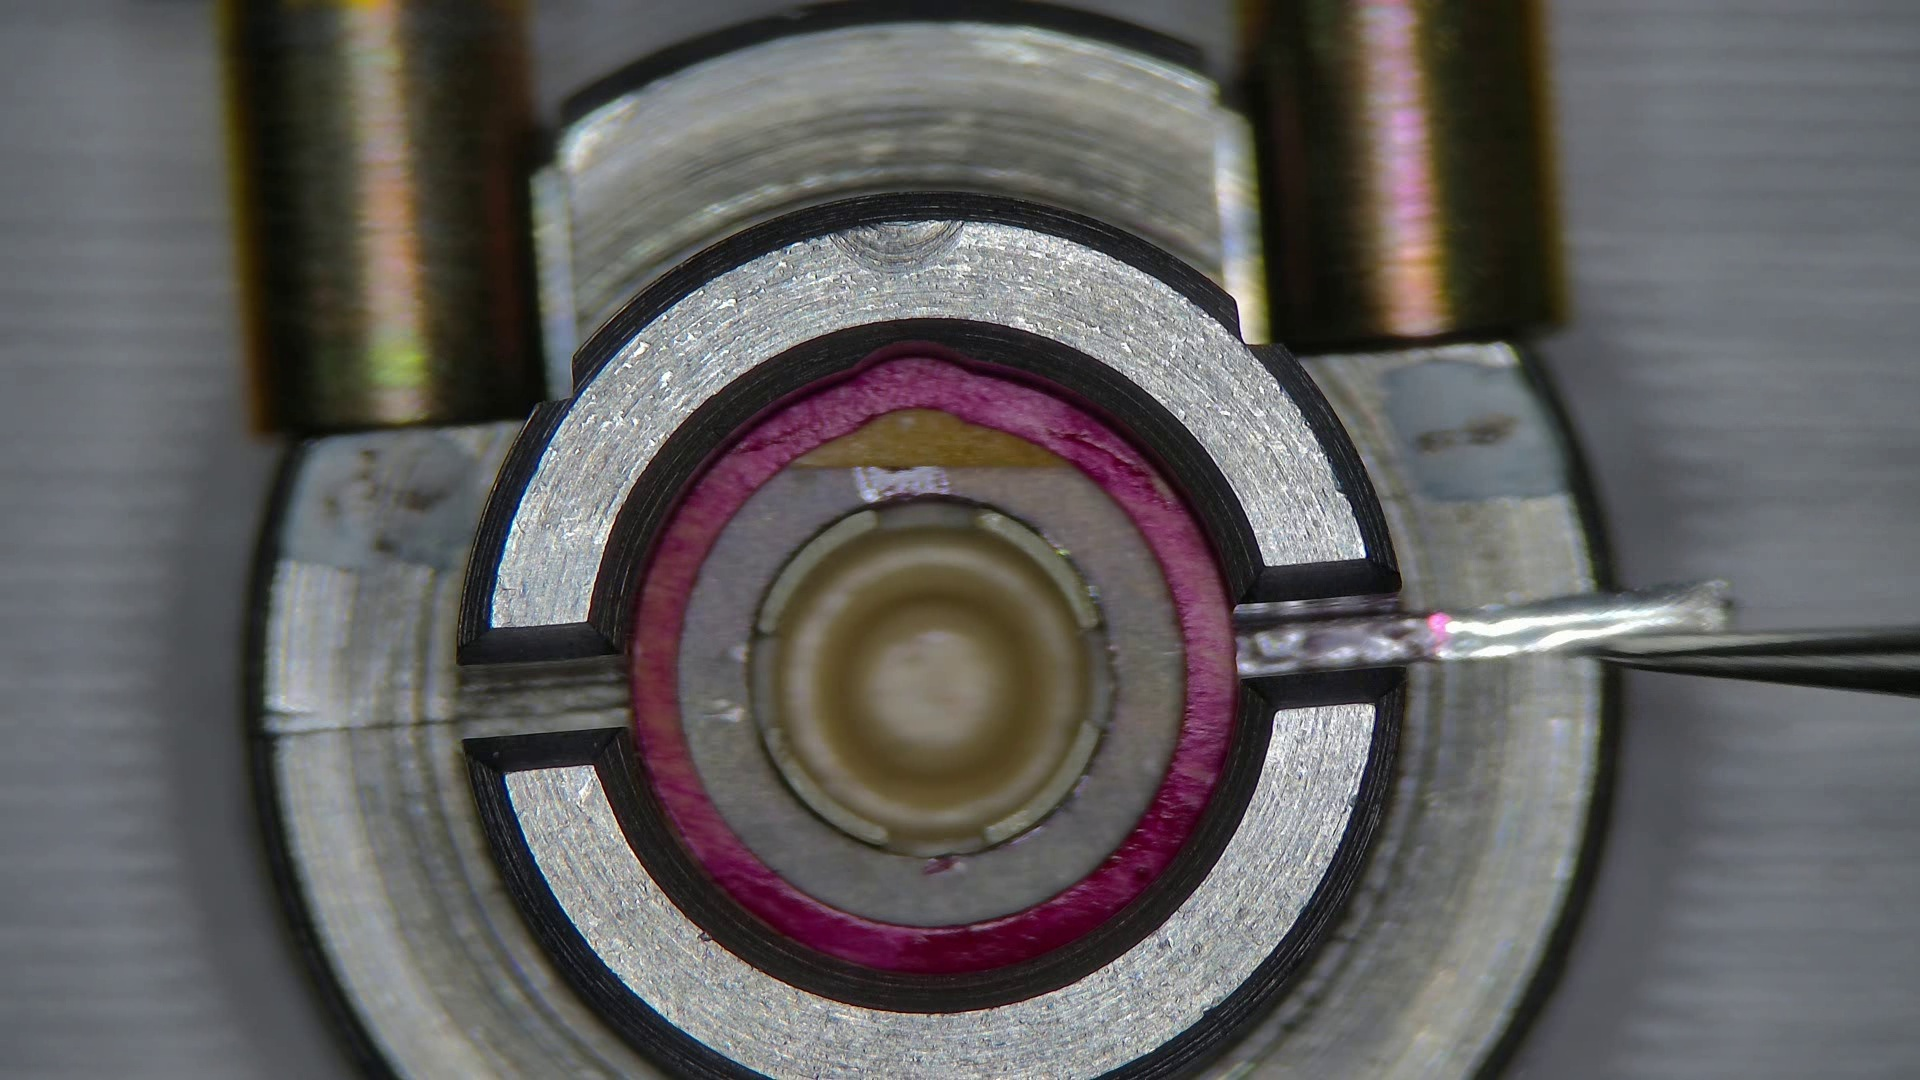GreyOring: (630, 353, 1236, 973)
YellowOring: (678, 463, 1179, 926)
redOring: (786, 410, 1076, 471)
